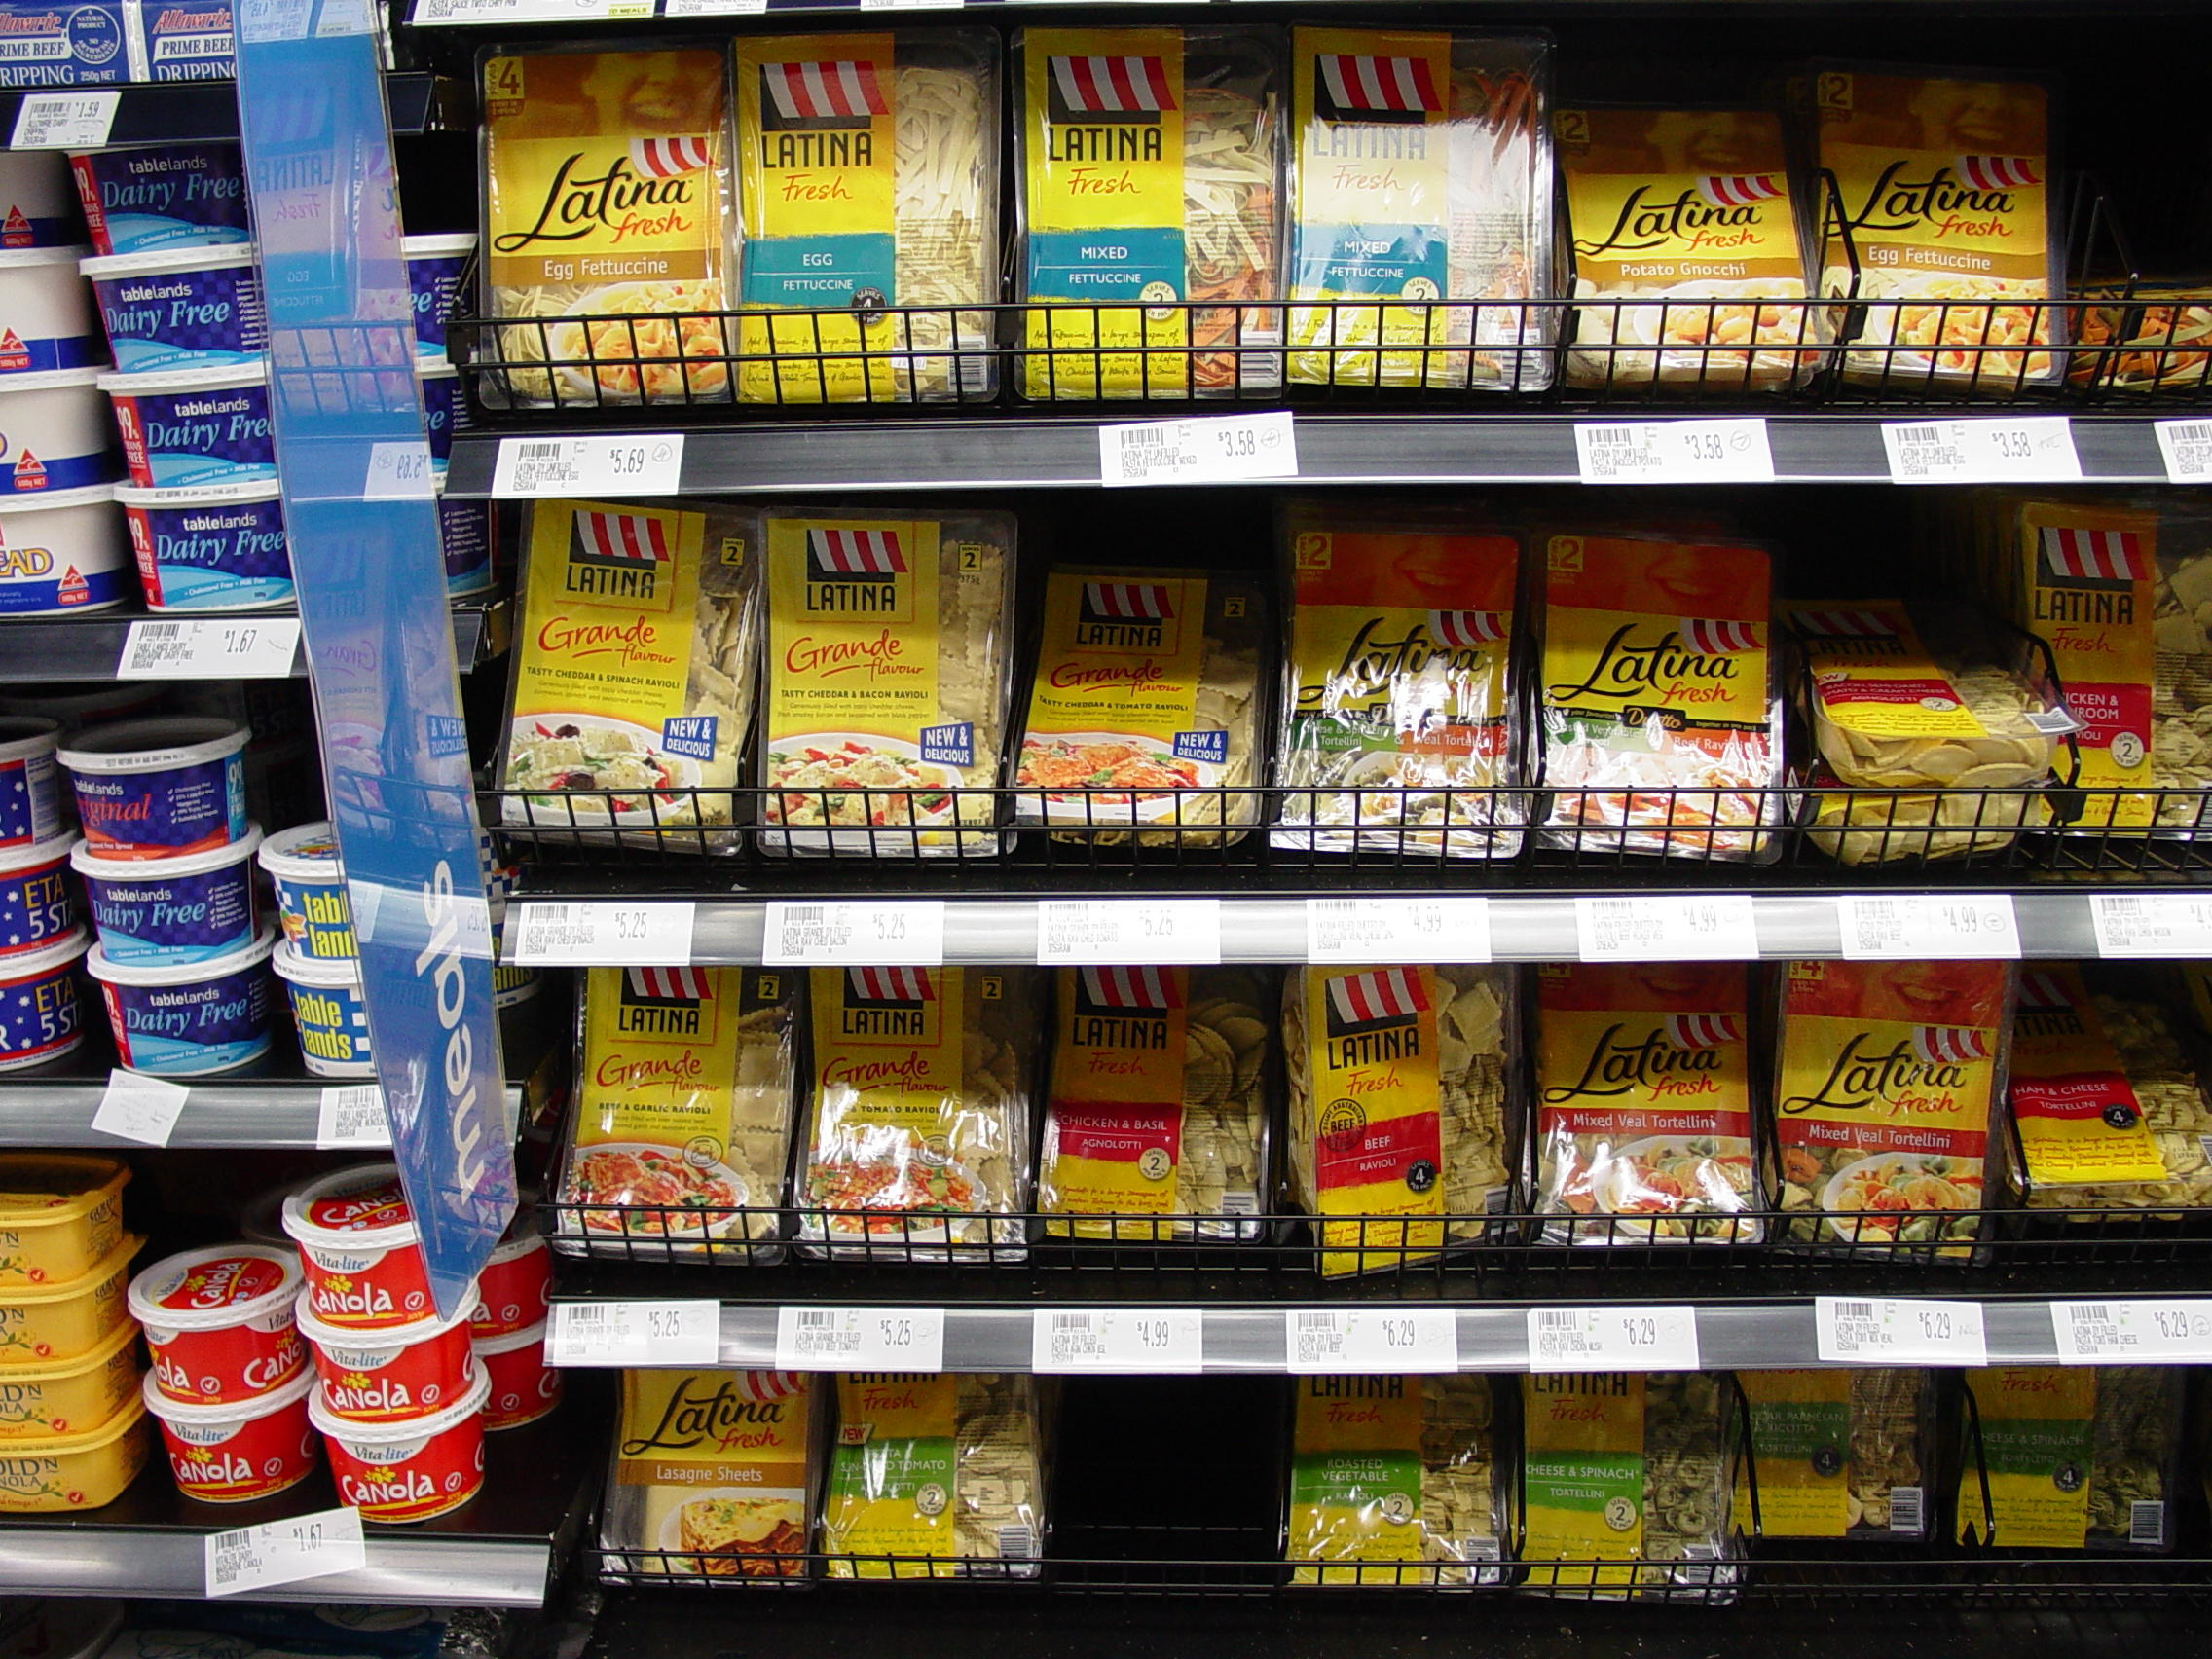Misplacement: (1787, 507, 2027, 885), (1026, 504, 1273, 866), (1022, 974, 1285, 1284)
Out-of-stock: (1054, 1389, 1277, 1586)
